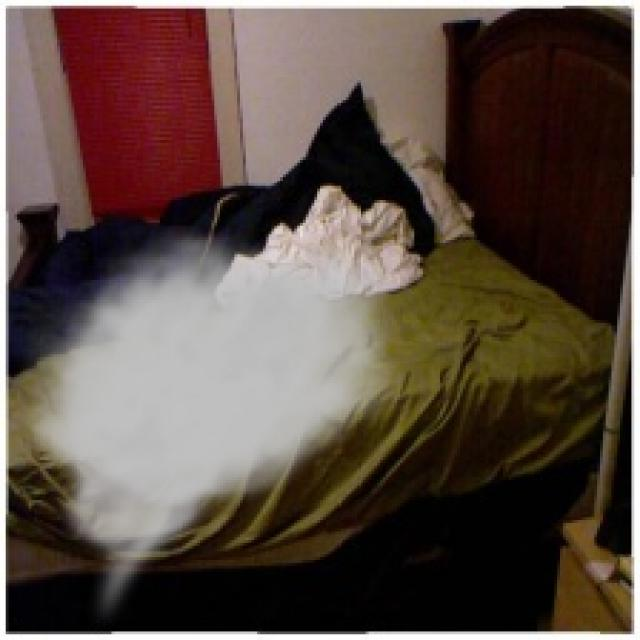smoke: (14, 226, 417, 628)
